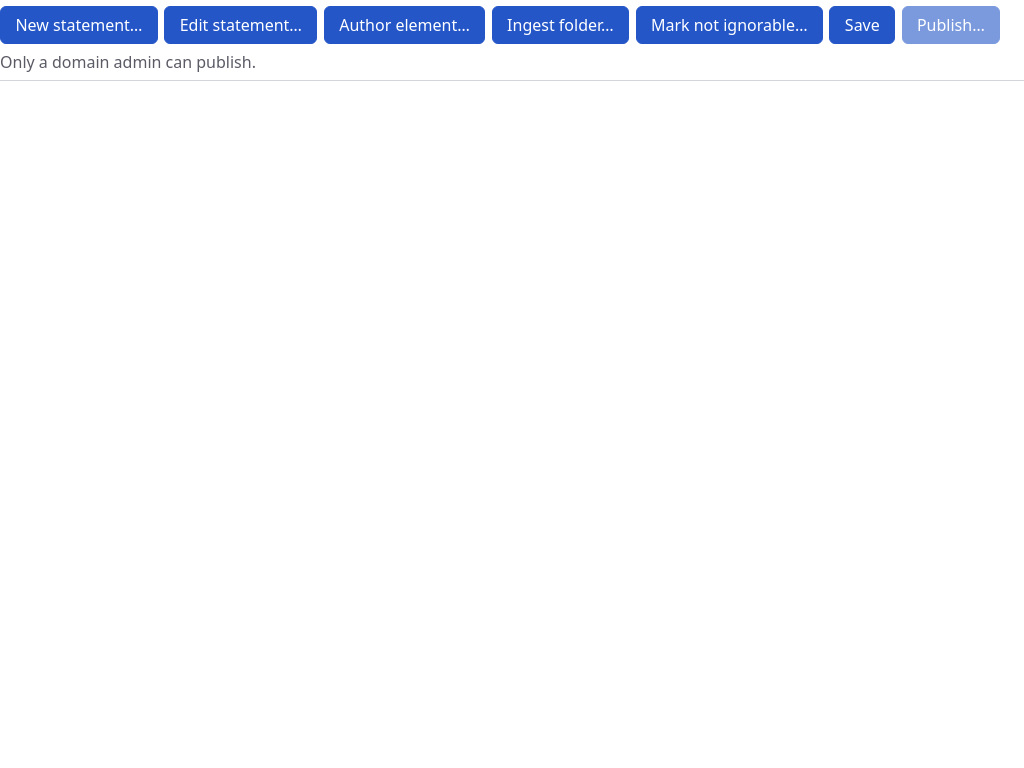
not_ignorable_dialog › extraction_runs_after_the_cost_confirmation
Click the button "Mark not ignorable…".
click(729, 25)  # box [636, 6, 823, 44]
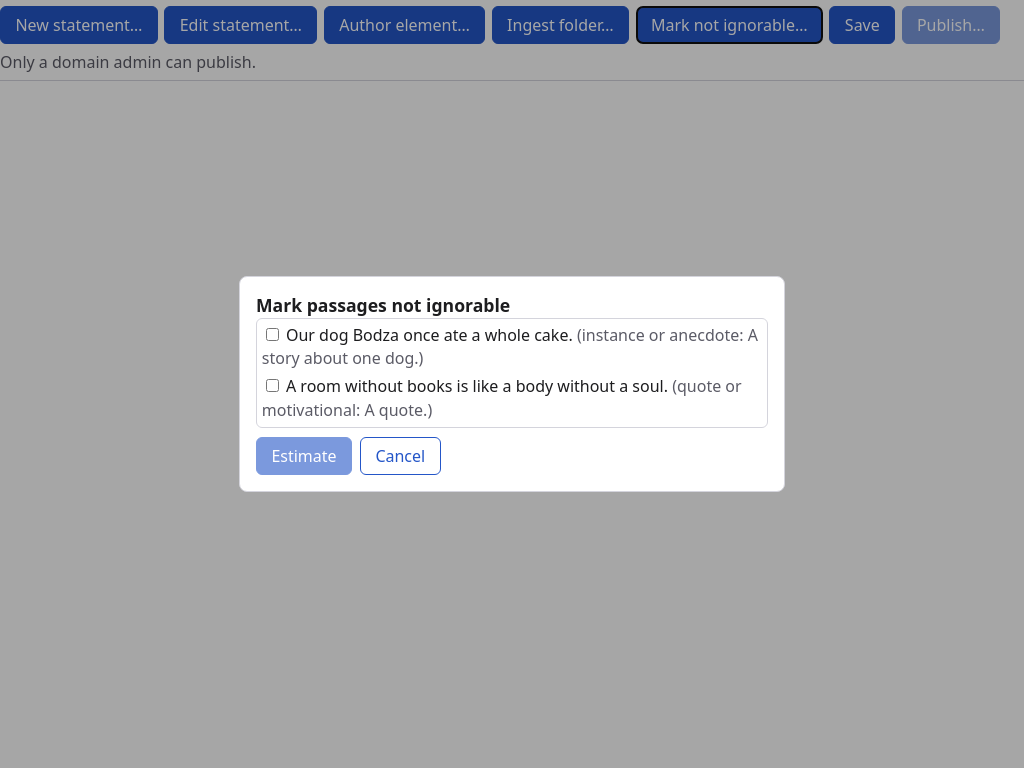
Click the 2nd checkbox.
click(272, 386)  # box [266, 379, 279, 392]
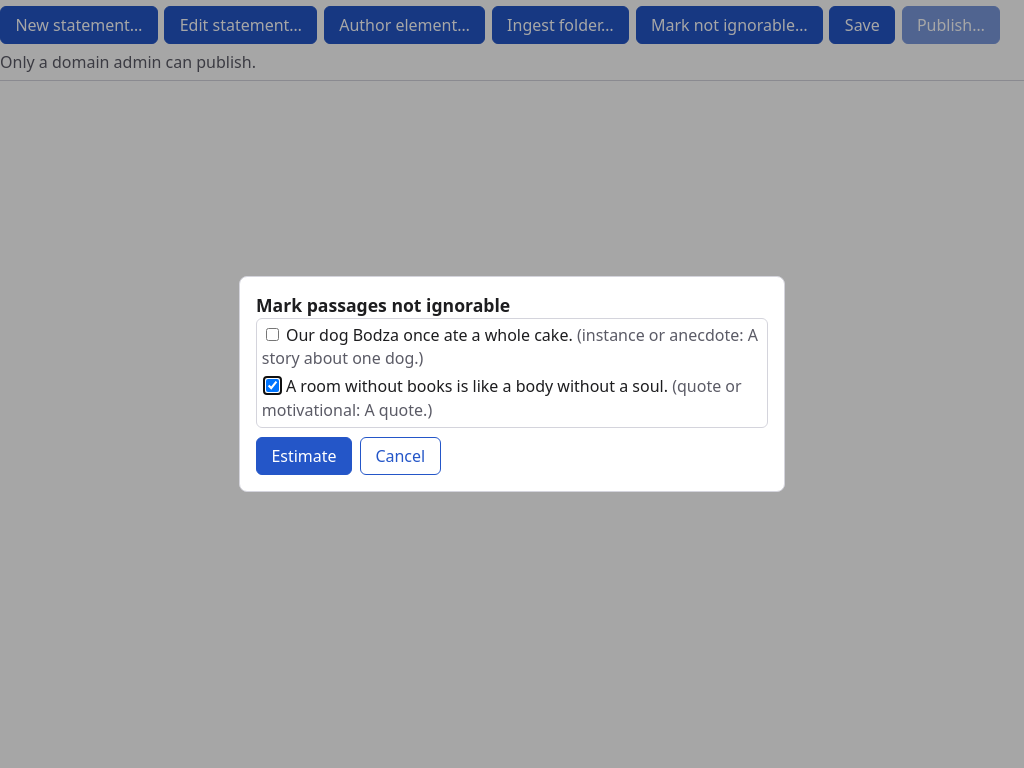
Click the button "Estimate".
click(304, 456)  # box [256, 437, 352, 475]
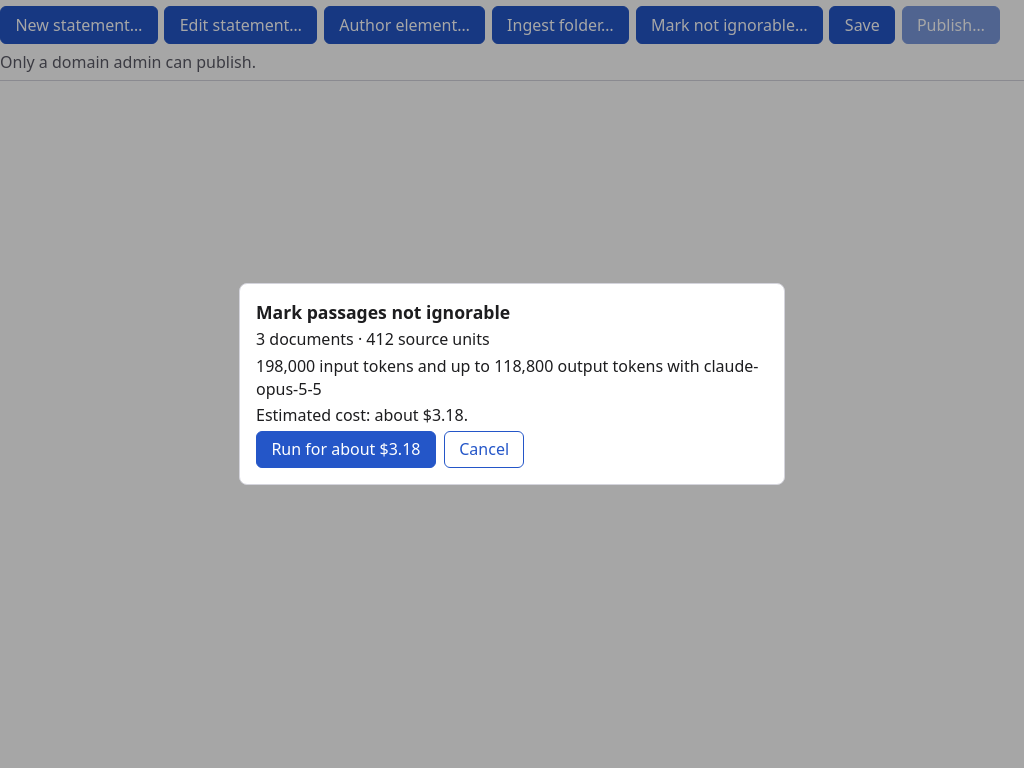
expect the text "Estimated cost: about $3.18." is shown: met, box [256, 404, 468, 426]
Click the button "Run for about $3.18".
click(346, 450)  # box [256, 430, 436, 468]
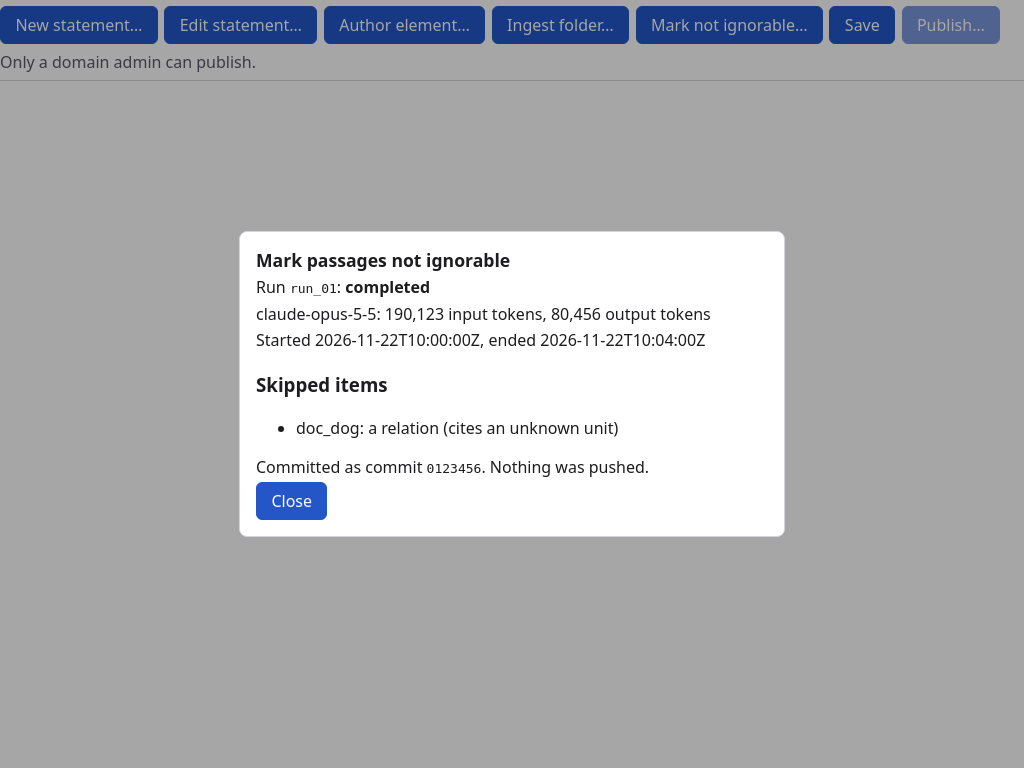
expect the text "completed" is shown: met, box [345, 276, 430, 298]
